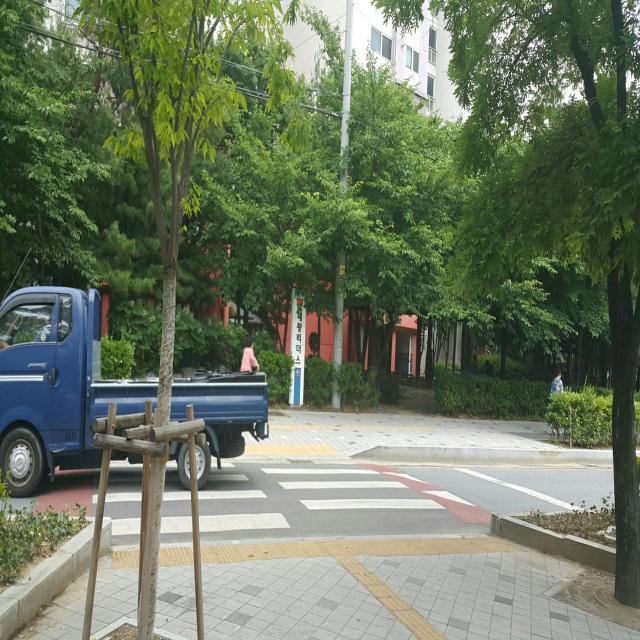횡단보도: (92, 462, 445, 537)
